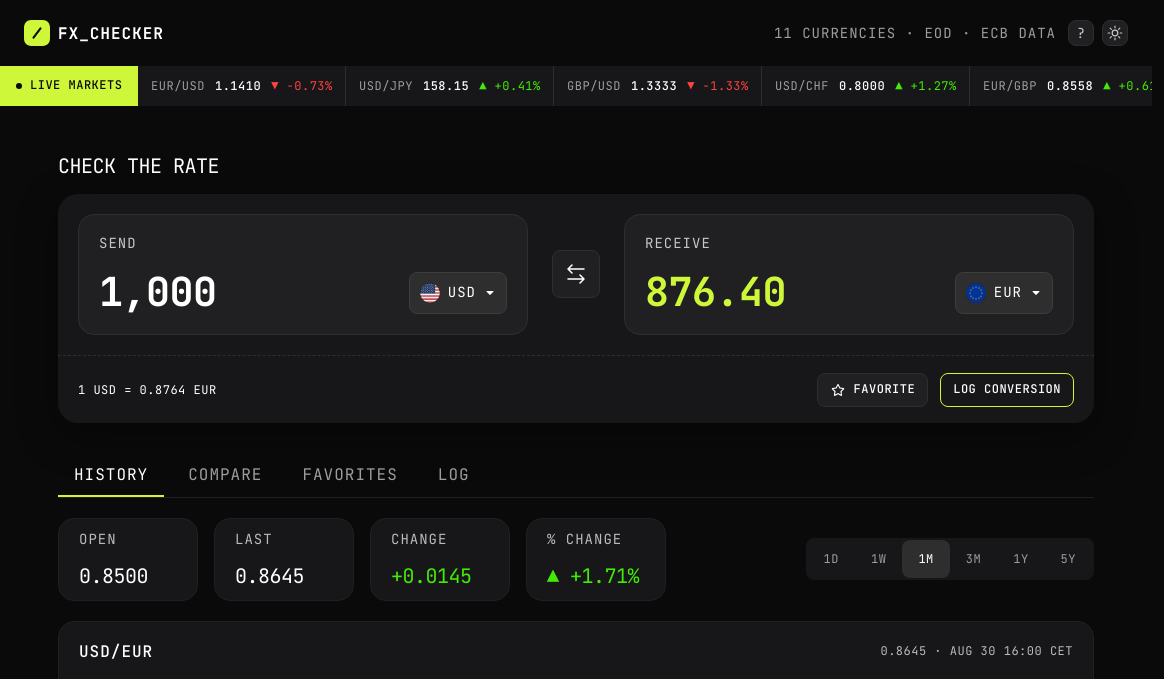
Test: CurrencyPicker (US1) › filters by code or name ignoring case
expect the text "1 USD = 0.8764 EUR" is shown: met, box x1=78 y1=383 x2=217 y2=397
Click the button with aria-label "Send currency: USD": {"x": 458, "y": 293} x1=409 y1=272 x2=507 y2=314
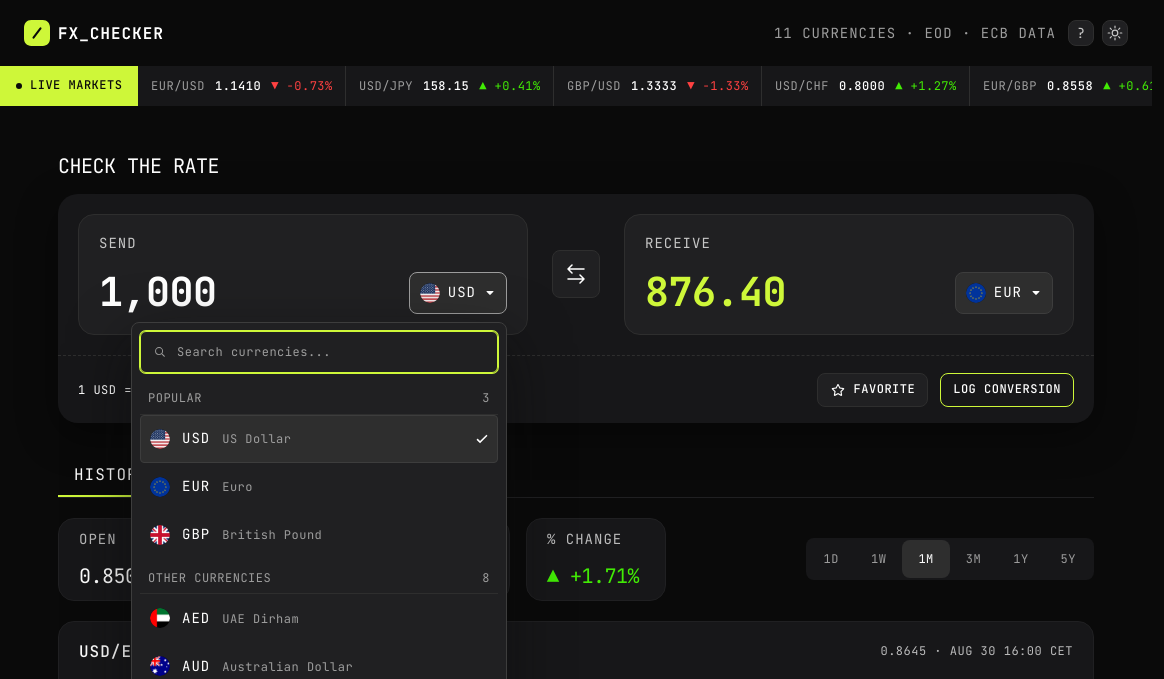
In the dropdown labelled "Search currencies": {"x": 331, "y": 352} x1=177 y1=332 x2=485 y2=372, type "yen"
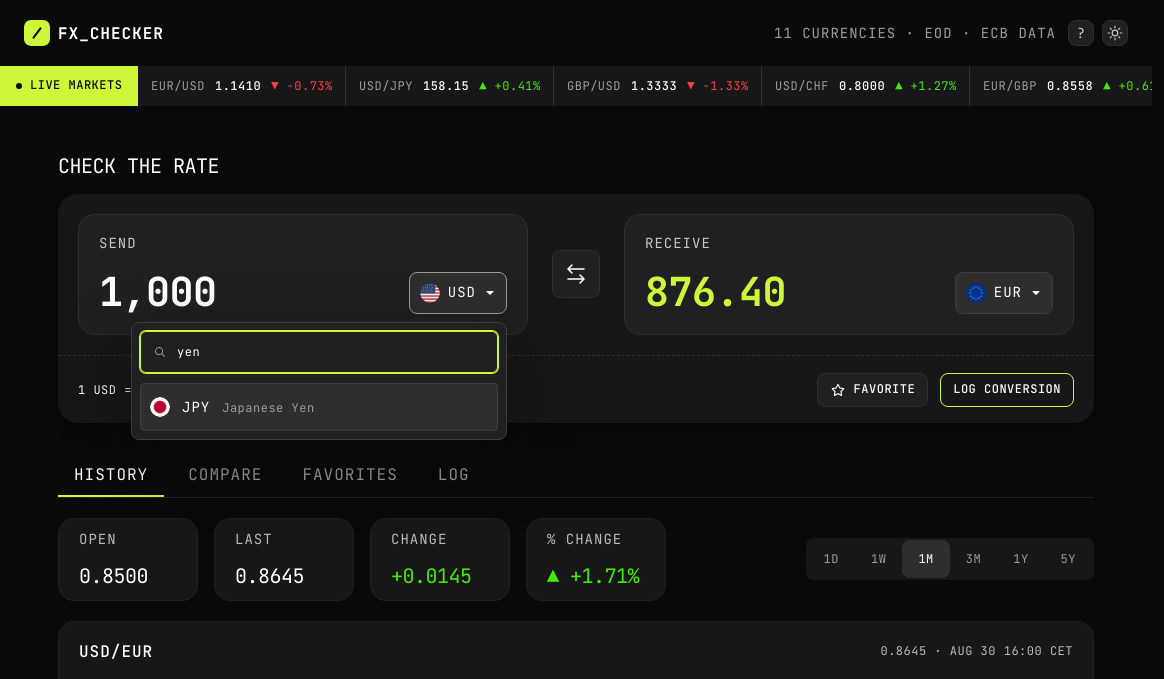
expect the options read "JPYJapanese Yen", in this order: met, box x1=140 y1=383 x2=498 y2=431
Replace the text in the dropdown named "Search currencies" with "jP": {"x": 331, "y": 352} x1=177 y1=332 x2=485 y2=372
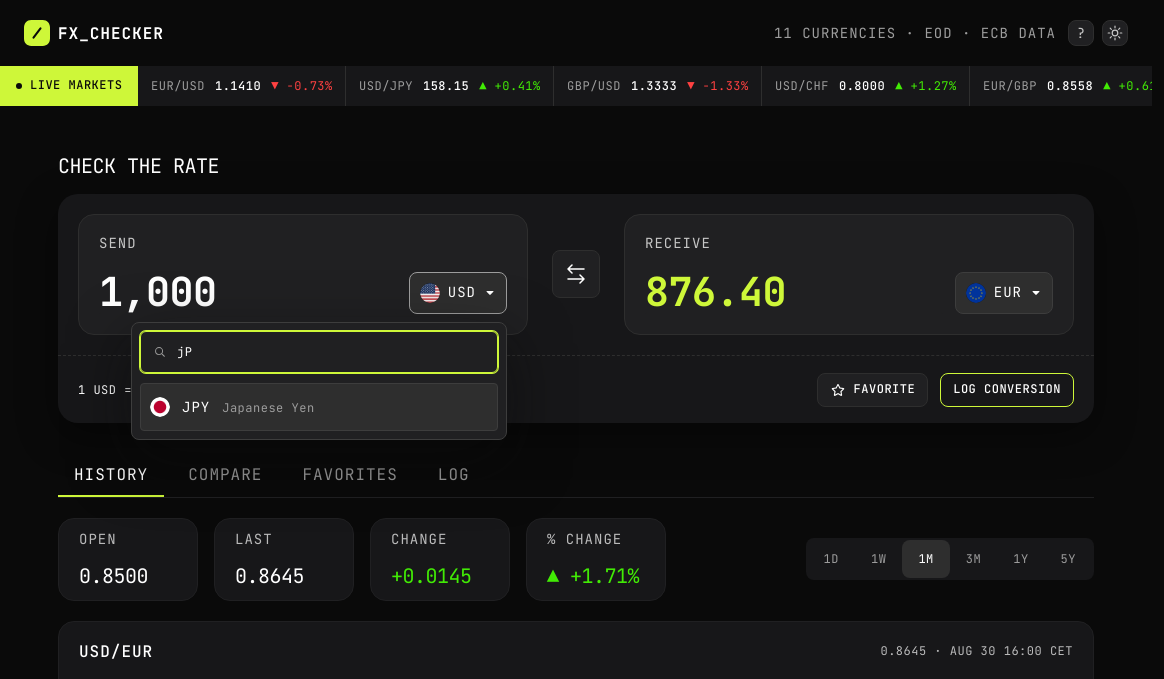
expect the options read "JPYJapanese Yen", in this order: met, box x1=140 y1=383 x2=498 y2=431
Replace the text in the dropdown named "Search currencies" with "sWiSS": {"x": 331, "y": 352} x1=177 y1=332 x2=485 y2=372
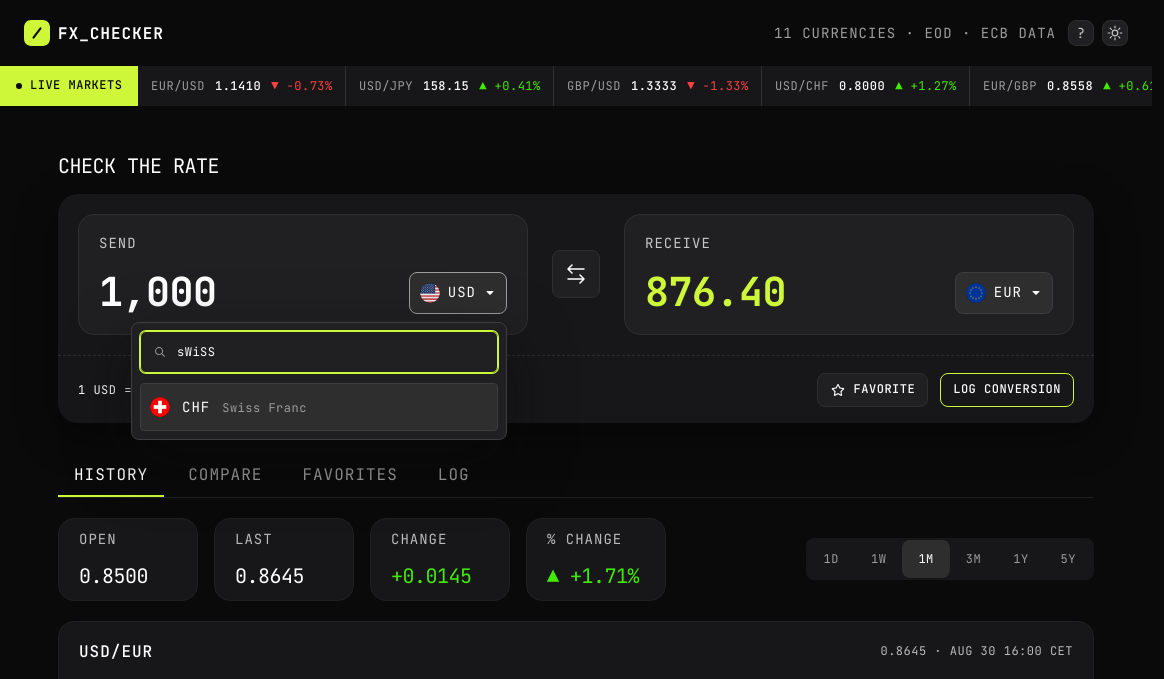
expect the options read "CHFSwiss Franc", in this order: met, box x1=140 y1=383 x2=498 y2=431
